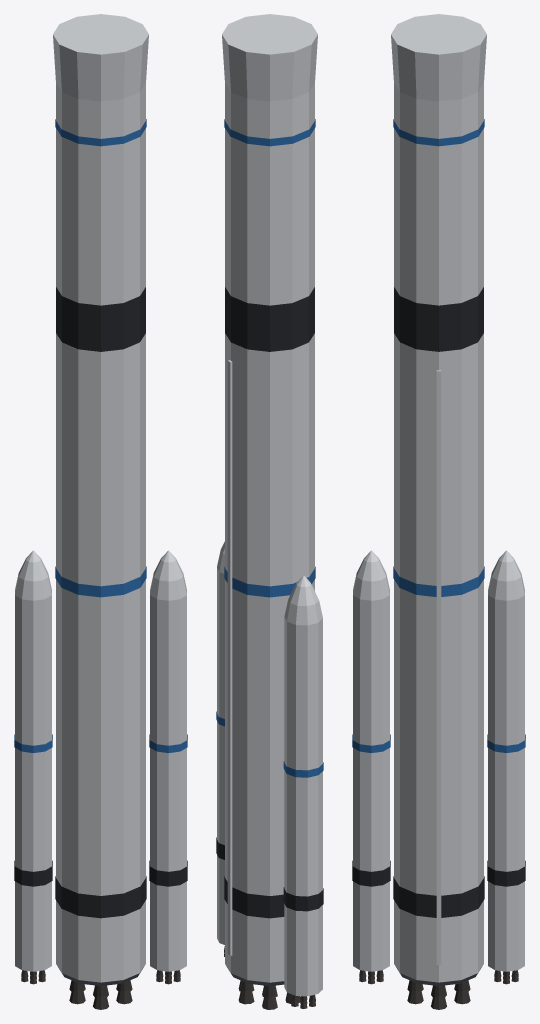
File: rocket_medium.glb
The picture shows the model from 3 angles, left to right: view 1: azimuth 90°, elevation 25°; view 2: azimuth 210°, elevation 25°; view 3: azimuth 270°, elevation 25°; orthographic projection.
Visible parts, largest first — view 1: medium_stage1__White, medium_boosters__White, medium_stage2__White, medium_stage1__Dark, medium_boosters__Dark, medium_stage1__Accent, medium_stage1__Engine, medium_stage2__Accent, medium_boosters__Accent, medium_boosters__Engine; view 2: medium_stage1__White, medium_stage2__White, medium_boosters__White, medium_stage1__Dark, medium_stage1__Accent, medium_boosters__Dark, medium_stage1__Engine, medium_stage2__Accent, medium_boosters__Accent, medium_boosters__Engine; view 3: medium_stage1__White, medium_boosters__White, medium_stage2__White, medium_stage1__Dark, medium_boosters__Dark, medium_stage1__Accent, medium_stage1__Engine, medium_stage2__Accent, medium_boosters__Accent, medium_boosters__Engine.
Boxes of the visible parts, x1,y1,x2,y2 form: medium_stage1__White: [56, 333, 145, 982]; medium_boosters__White: [15, 550, 186, 971]; medium_stage2__White: [53, 14, 148, 305]; medium_stage1__Dark: [55, 287, 146, 985]; medium_boosters__Dark: [14, 860, 187, 886]; medium_stage1__Accent: [55, 566, 146, 597]; medium_stage1__Engine: [69, 980, 132, 1009]; medium_stage2__Accent: [55, 119, 146, 146]; medium_boosters__Accent: [14, 734, 187, 752]; medium_boosters__Engine: [21, 970, 180, 984]; medium_stage1__White: [225, 333, 314, 982]; medium_stage2__White: [222, 14, 317, 305]; medium_boosters__White: [217, 541, 322, 996]; medium_stage1__Dark: [224, 287, 314, 986]; medium_stage1__Accent: [224, 566, 315, 597]; medium_boosters__Dark: [216, 837, 323, 911]; medium_stage1__Engine: [238, 980, 300, 1009]; medium_stage2__Accent: [224, 119, 315, 146]; medium_boosters__Accent: [216, 711, 323, 777]; medium_boosters__Engine: [224, 946, 315, 1008]; medium_stage1__White: [394, 333, 483, 982]; medium_boosters__White: [353, 550, 524, 971]; medium_stage2__White: [391, 14, 486, 305]; medium_stage1__Dark: [393, 287, 484, 985]; medium_boosters__Dark: [352, 860, 525, 886]; medium_stage1__Accent: [393, 566, 484, 596]; medium_stage1__Engine: [407, 980, 470, 1009]; medium_stage2__Accent: [393, 119, 484, 146]; medium_boosters__Accent: [352, 734, 525, 752]; medium_boosters__Engine: [359, 970, 518, 984].
Size of the model in its own units: 4.7 by 51.8 by 8.46.
